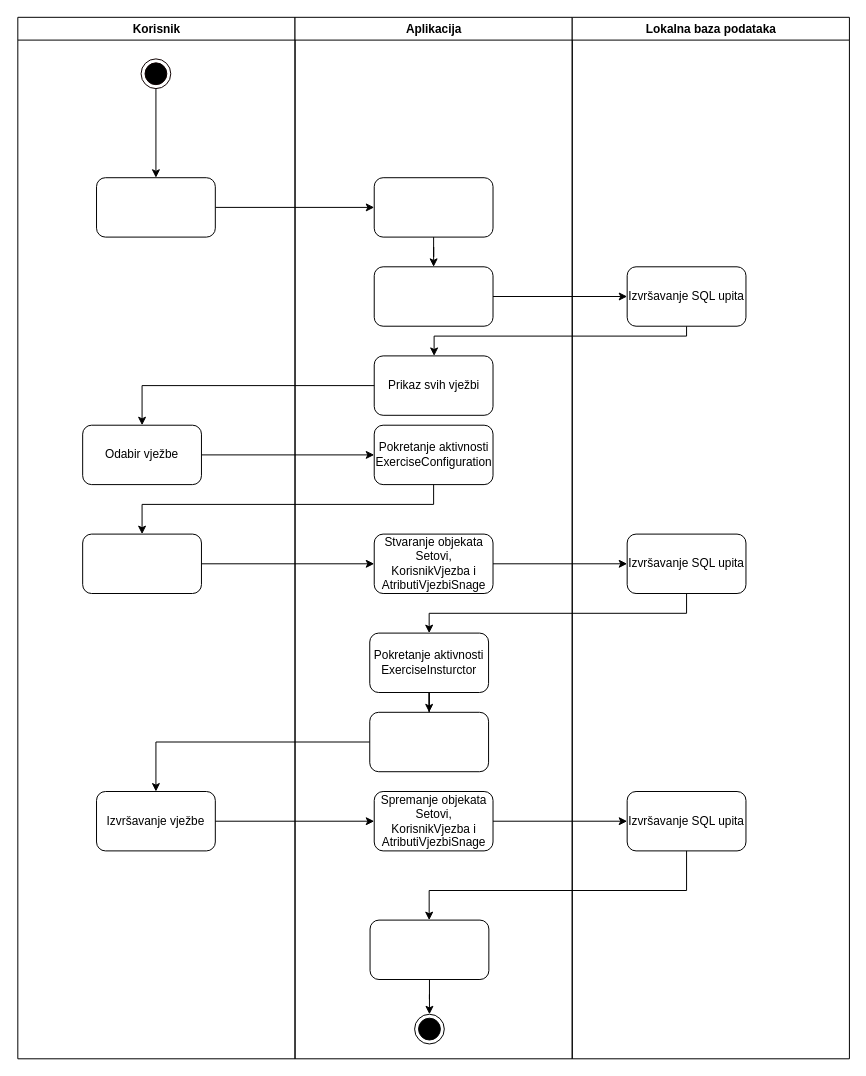
Some shapes in this 866 by 1076 pixel diagram are drawn without their labels. Each missing label, with the centre of its shape:
"Dohvaćanje svih vježbi" belongs at point 433,296.
"Konfiguriranje vježbe" belongs at point 141,563.
"Odabir opcije Vježbanja" belongs at point 155,207.
"Pokretanje aktivnosti ExerciseReport" belongs at point 429,949.
"Pokretanje aktivnosti ExerciseSelection" belongs at point 433,207.
"Pokretanje text2speech" belongs at point 429,741.
